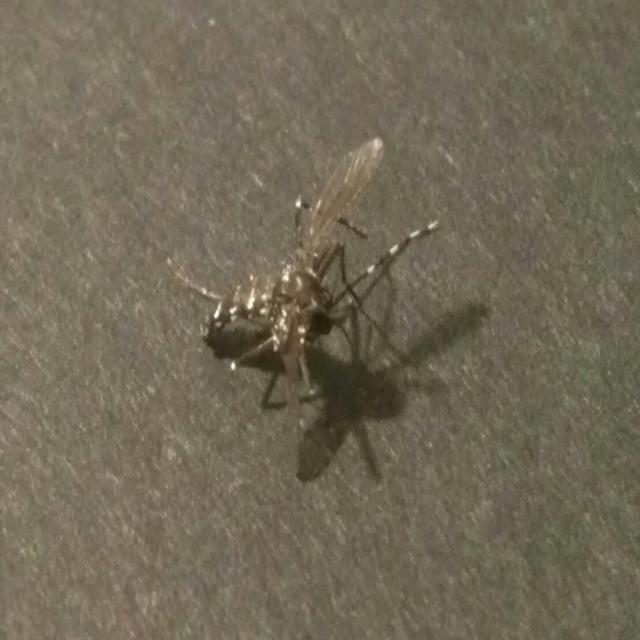albopictus: (163, 157, 448, 433)
